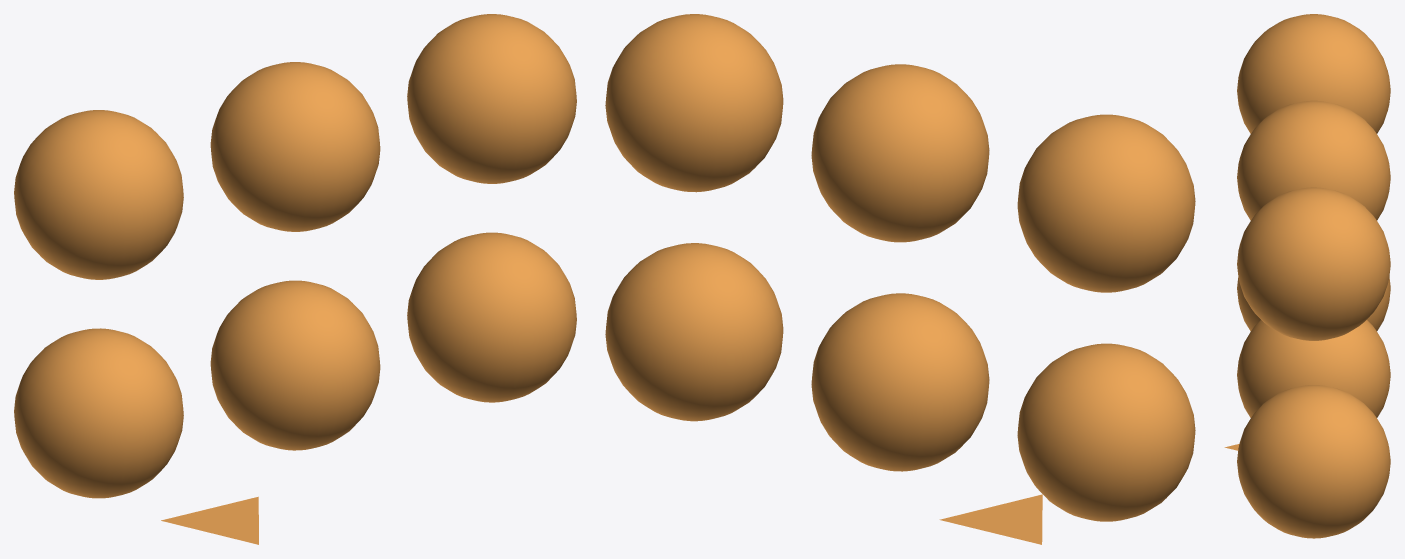
Rendered from Pbr_Factors.glb.
3 views of the same model, side by side, from view 1: azimuth 30°, elevation 25°; view 2: azimuth 150°, elevation 25°; view 3: azimuth 270°, elevation 25° (orthographic). The views are drawn at different scales.
Parts seen in each view (by area): view 1: Metal 1 roughness 0.15, Metal 1 roughness 0.95, Metal 1 roughness 0.5, Metal 0 roughness 0.5, Metal 0 roughness 0.15, Metal 0 roughness 0.95, Singular normal fallback; view 2: Metal 1 roughness 0.95, Metal 0 roughness 0.95, Metal 1 roughness 0.15, Metal 1 roughness 0.5, Metal 0 roughness 0.15, Metal 0 roughness 0.5, Singular normal fallback; view 3: Metal 1 roughness 0.95, Metal 0 roughness 0.95, Metal 0 roughness 0.5, Metal 0 roughness 0.15, Metal 1 roughness 0.5, Metal 1 roughness 0.15.
Boxes of the visible parts, x1,y1,x2,y2 form: Metal 1 roughness 0.15: (14,328,183,498); Metal 1 roughness 0.95: (407,232,576,402); Metal 1 roughness 0.5: (210,280,380,450); Metal 0 roughness 0.5: (210,62,380,231); Metal 0 roughness 0.15: (14,110,183,279); Metal 0 roughness 0.95: (407,14,576,183); Singular normal fallback: (161,496,258,544); Metal 1 roughness 0.95: (605,243,783,421); Metal 0 roughness 0.95: (605,14,783,192); Metal 1 roughness 0.15: (1017,343,1195,521); Metal 1 roughness 0.5: (811,293,989,471); Metal 0 roughness 0.15: (1017,114,1195,292); Metal 0 roughness 0.5: (811,64,989,242); Singular normal fallback: (939,494,1042,544); Metal 1 roughness 0.95: (1237,385,1390,538); Metal 0 roughness 0.95: (1237,187,1390,340); Metal 0 roughness 0.5: (1237,100,1390,220); Metal 0 roughness 0.15: (1237,14,1390,133); Metal 1 roughness 0.5: (1237,320,1390,417); Metal 1 roughness 0.15: (1237,276,1390,331).
Bounding box in the file's own units: 4.4 × 3.25 × 1.3.
